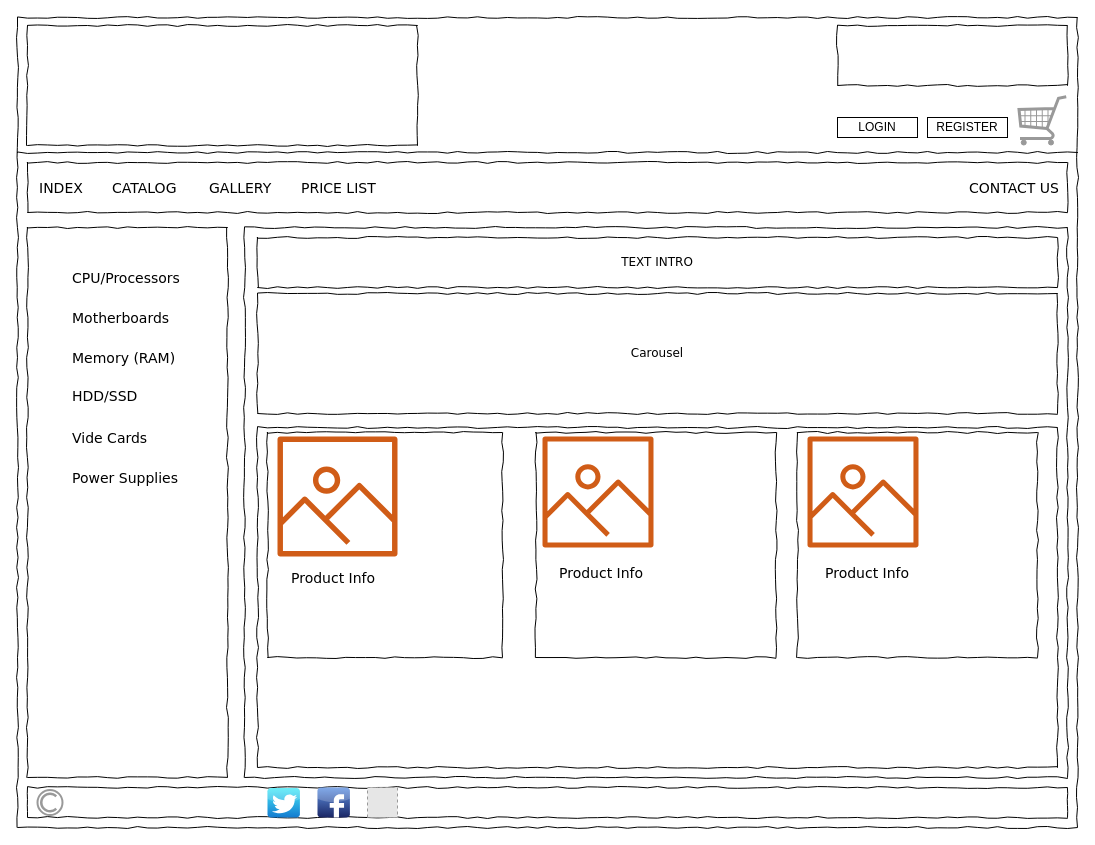
The diagram is 1095 pixels wide and 845 high, and some of its shapes have lost their labels. Grey dashed boxes stand in for pictures. Here are the shapes that lost their labels. From the top down, the box of each, then its label:
(836, 24, 1068, 86): Contact
(26, 24, 418, 146): LOGO
